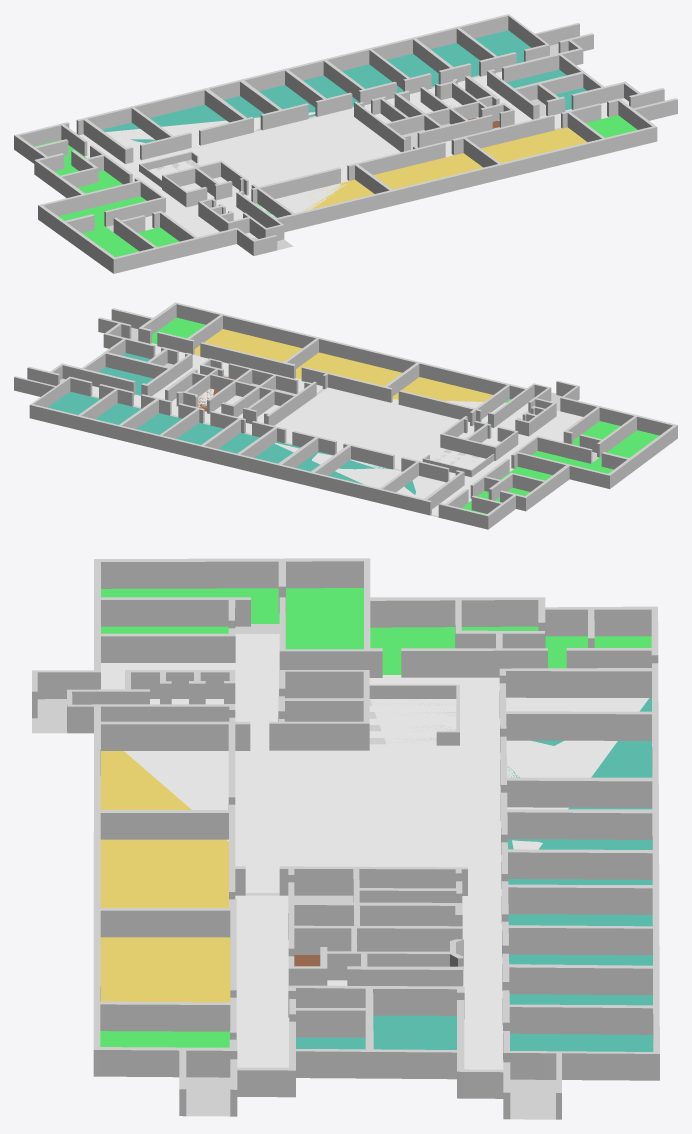
File: Diplom_2flor_centered_separeted.fbx
3 views of the same model, one above another, from view 1: azimuth 30°, elevation 25°; view 2: azimuth 150°, elevation 25°; view 3: azimuth 270°, elevation 25° (orthographic). The views are drawn at different scales.
Parts seen in each view (by area): view 1: 2 floor_wall, 2 floor_ground; view 2: 2 floor_wall, 2 floor_ground; view 3: 2 floor_wall, 2 floor_ground, 2 floor_ups.
Boxes of the visible parts, bbox=[...] form: 2 floor_wall: bbox=[14, 14, 677, 273]; 2 floor_ground: bbox=[34, 30, 637, 257]; 2 floor_wall: bbox=[14, 302, 677, 529]; 2 floor_ground: bbox=[48, 317, 659, 515]; 2 floor_wall: bbox=[32, 558, 659, 1119]; 2 floor_ground: bbox=[32, 588, 653, 1119]; 2 floor_ups: bbox=[369, 699, 456, 744].
Bounding box in the file's own units: 859 × 20.04 × 426.
